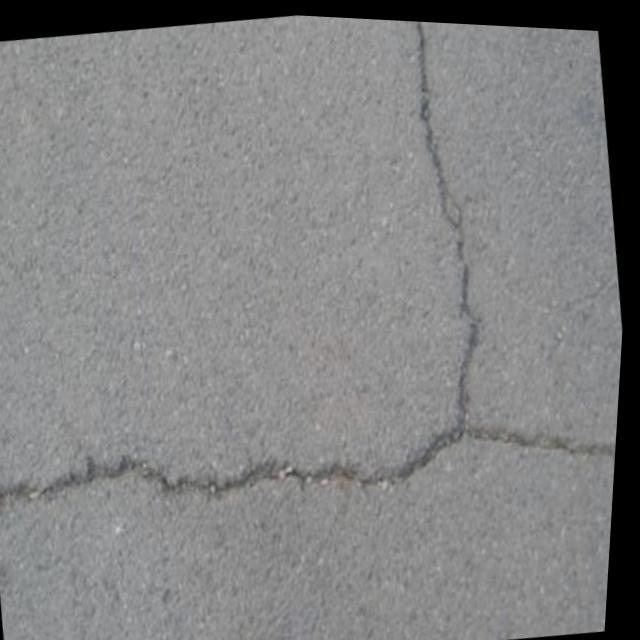Crack: (0, 359, 623, 562), (366, 16, 529, 450)
